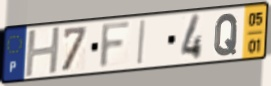4: (179, 12, 205, 63)
7: (61, 24, 89, 74)
F: (97, 19, 134, 72)
H: (23, 24, 63, 79)
I: (135, 18, 148, 67)
Q: (212, 12, 240, 58)
